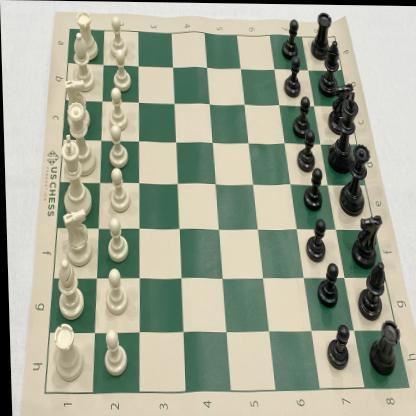black-bishop: (355, 260, 385, 319), (318, 37, 342, 97)
black-king: (326, 93, 360, 173)
black-knight: (348, 212, 384, 266), (326, 80, 356, 134)
black-pawn: (311, 260, 340, 310), (323, 322, 351, 372), (300, 216, 326, 261), (299, 166, 323, 211), (291, 94, 313, 139), (295, 129, 317, 173), (280, 16, 300, 60), (283, 55, 302, 97)
black-queen: (336, 140, 372, 217)
black-rook: (366, 319, 400, 376), (308, 7, 333, 62)
white-bishop: (53, 259, 84, 321), (70, 32, 95, 92)
white-king: (57, 132, 91, 219)
white-knight: (59, 207, 90, 266), (62, 78, 92, 129)
white-pawn: (97, 329, 127, 377), (100, 268, 126, 317), (104, 215, 128, 263), (106, 166, 130, 213), (106, 124, 130, 167), (110, 49, 131, 94), (105, 87, 126, 132), (107, 14, 128, 58)
white-queen: (65, 101, 95, 177)
white-rook: (49, 322, 82, 383), (74, 7, 99, 61)
